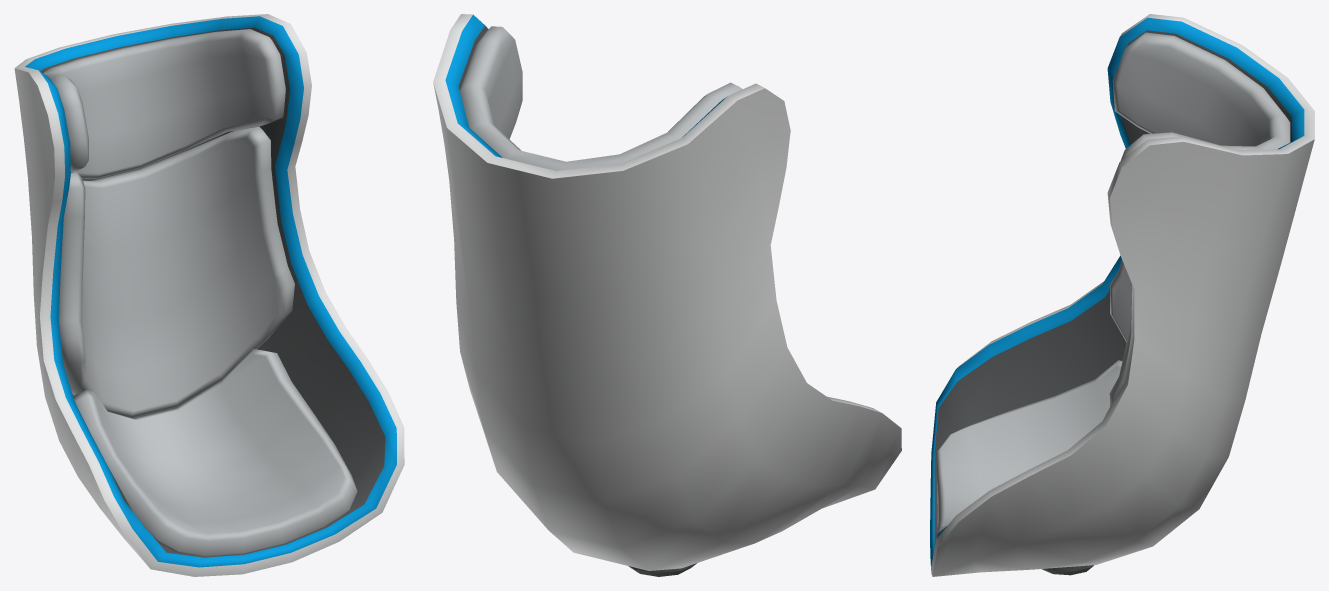
The model's file is Armchair_005_Chair_01.fbx.
The picture shows the model from 3 angles, left to right: view 1: azimuth 30°, elevation 25°; view 2: azimuth 150°, elevation 25°; view 3: azimuth 270°, elevation 25°; orthographic projection. The views are drawn at different scales.
Parts seen in each view (by area): view 1: Armchair_005_Chair_01; view 2: Armchair_005_Chair_01; view 3: Armchair_005_Chair_01.
Part boxes in pixels (x1=…): Armchair_005_Chair_01: x1=14, y1=14, x2=404, y2=576; Armchair_005_Chair_01: x1=433, y1=14, x2=901, y2=576; Armchair_005_Chair_01: x1=930, y1=14, x2=1314, y2=576.
Bounding box in the file's own units: 86.99 × 90.97 × 126.
